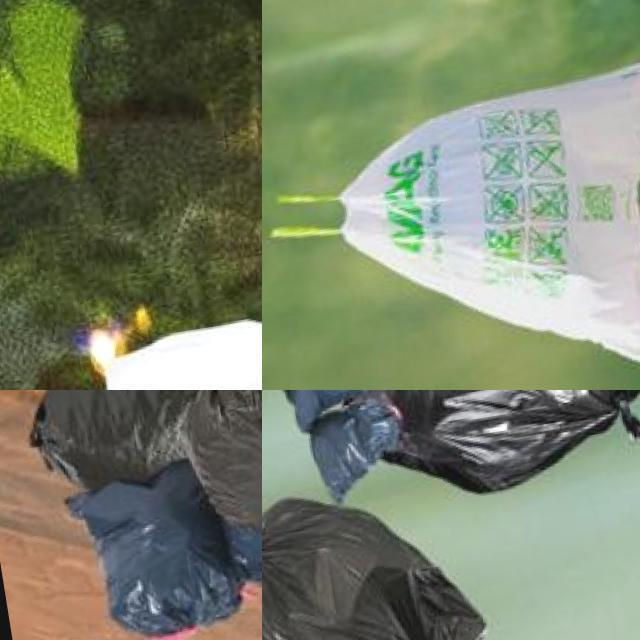waste: (336, 63, 640, 390), (262, 472, 503, 640), (339, 390, 640, 503), (68, 460, 246, 640), (0, 390, 262, 473), (96, 308, 262, 390), (162, 390, 262, 521)
